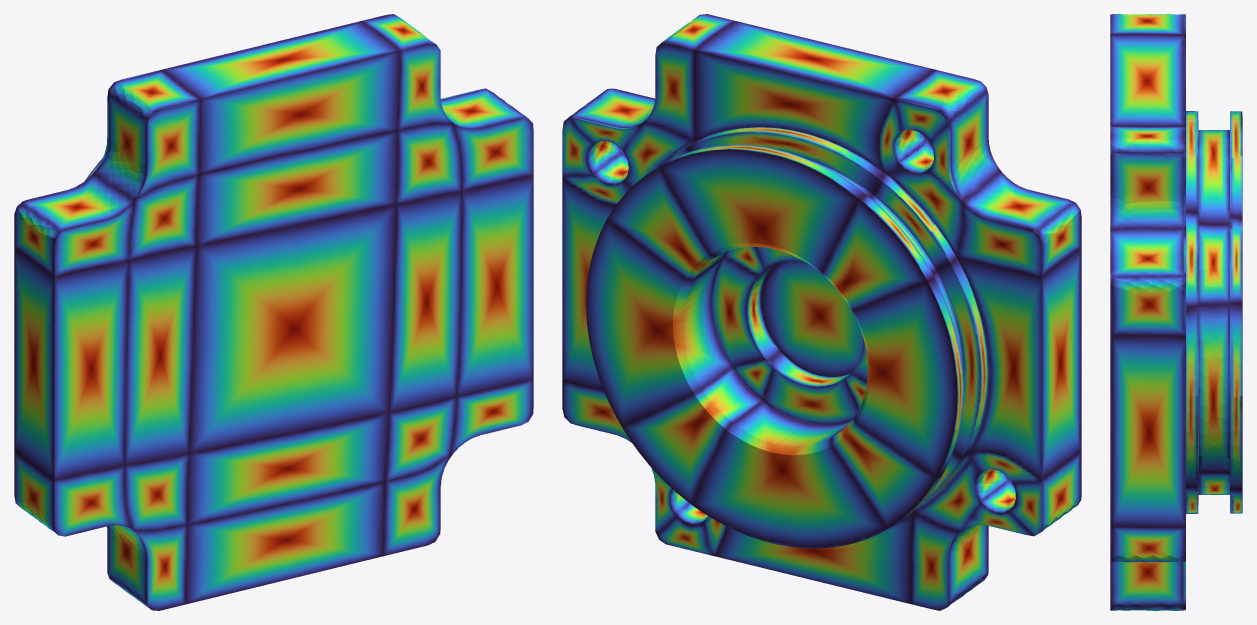
Rendered from gen3.glb.
The picture shows the model from 3 angles, left to right: view 1: azimuth 30°, elevation 25°; view 2: azimuth 150°, elevation 25°; view 3: azimuth 270°, elevation 25°; orthographic projection. The views are drawn at different scales.
Parts seen in each view (by area): view 1: Node; view 2: Node; view 3: Node.
Boxes of the visible parts, box(x1,y1,x2,y2) form: Node: box(14, 14, 533, 610); Node: box(562, 14, 1081, 610); Node: box(1110, 14, 1242, 610).
Size of the model in its own units: 82.52 by 82.52 by 21.01.
Materials: 1 (1 with a texture image).
